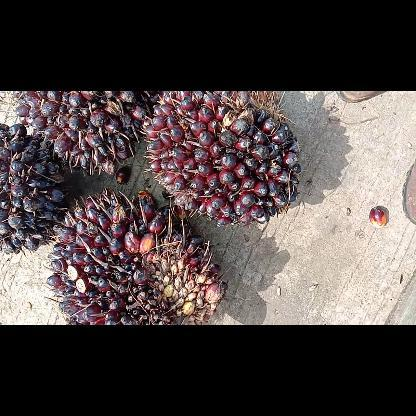TBS mentah: (44, 186, 228, 324), (144, 90, 302, 226), (10, 90, 160, 176), (0, 118, 72, 254)
